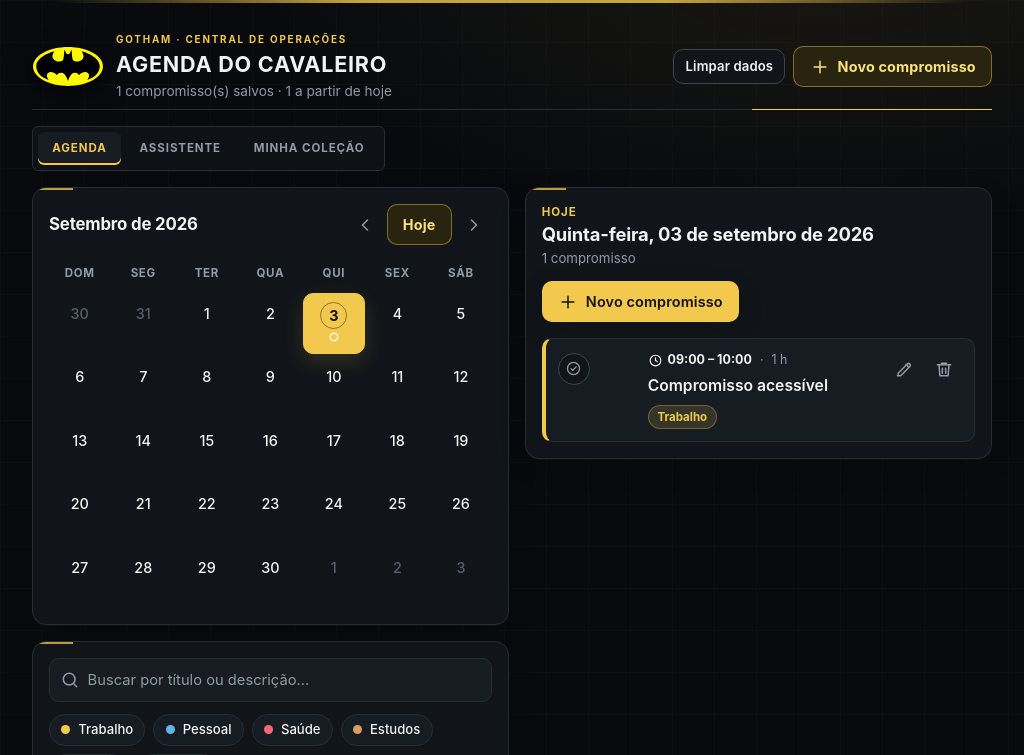
it: acessibilidade › fecha o diálogo com Esc e devolve o foco ao gatilho
The width and height of the screenshot is (1024, 755).
Click the button "Novo compromisso" in the row of "Agenda do Cavaleiro". click: x=893, y=67
box: [793,46,992,87]
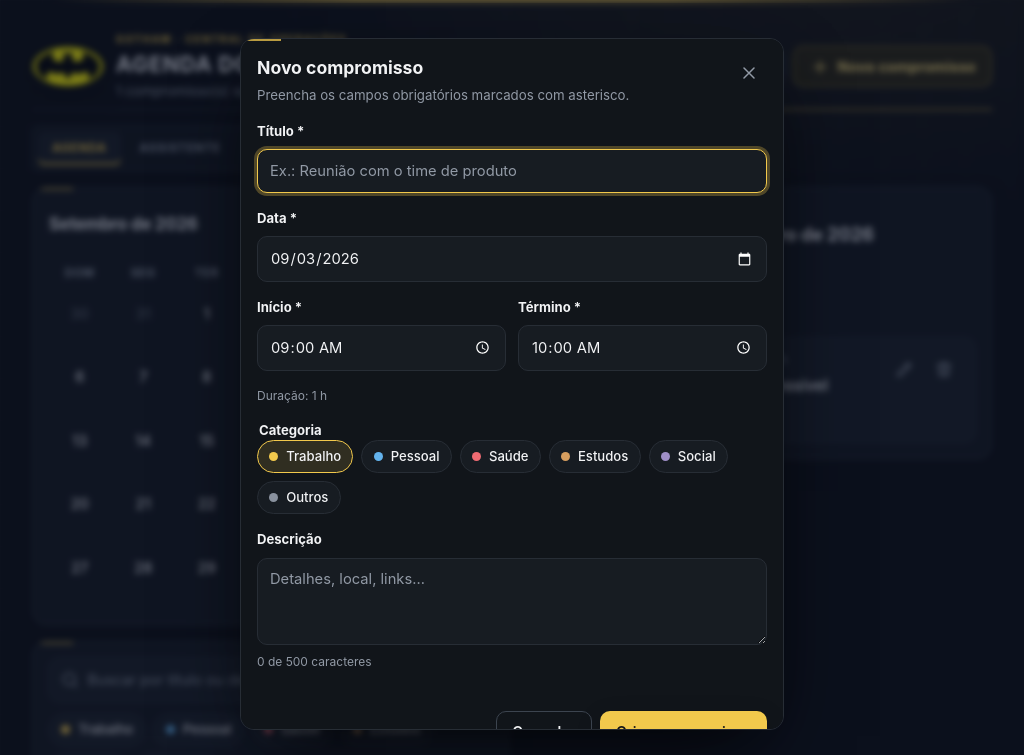
Expected: the dialog is shown, [240,38,784,730]
Press Escape
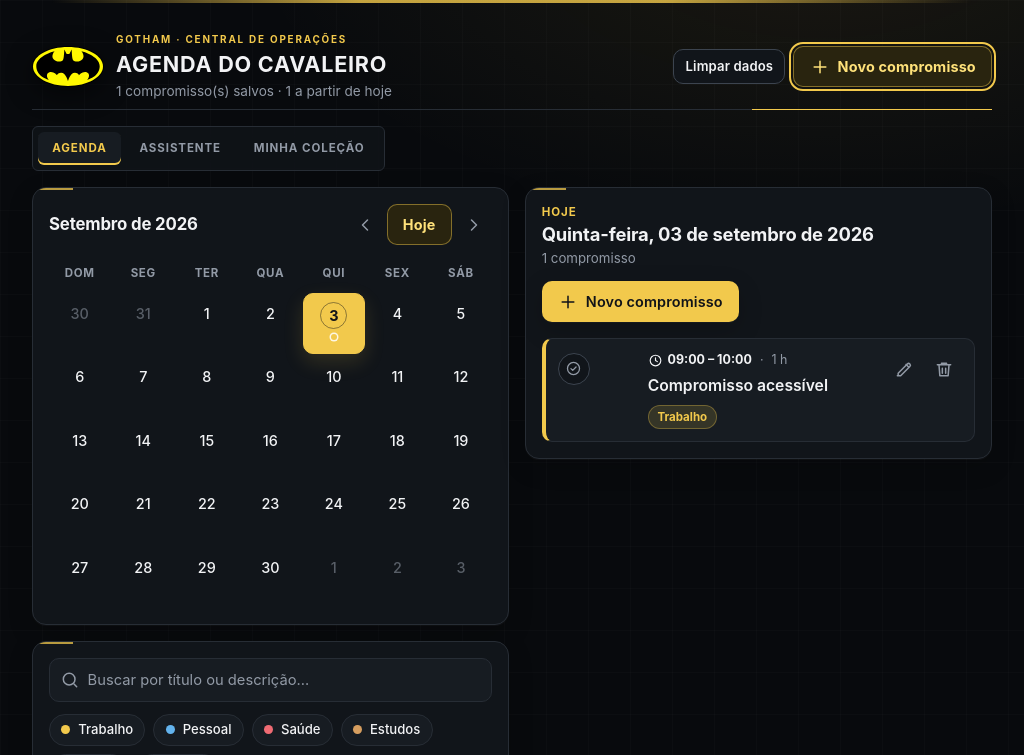
Expected: the dialog is gone
